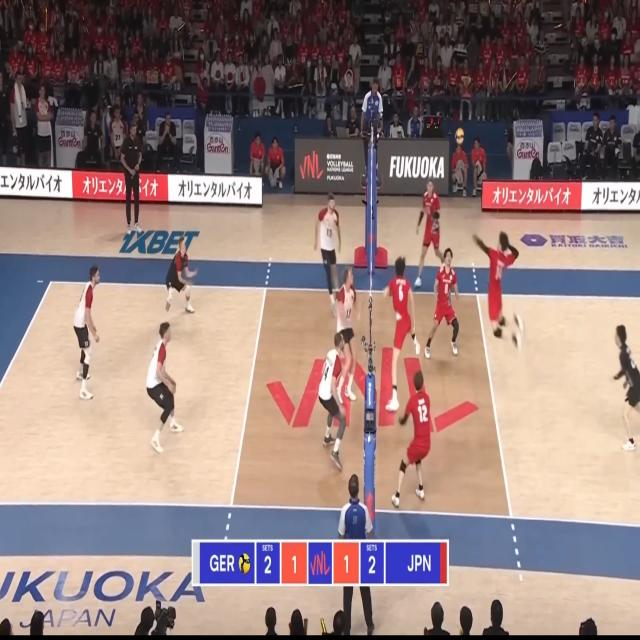ball: (456, 128, 464, 144)
